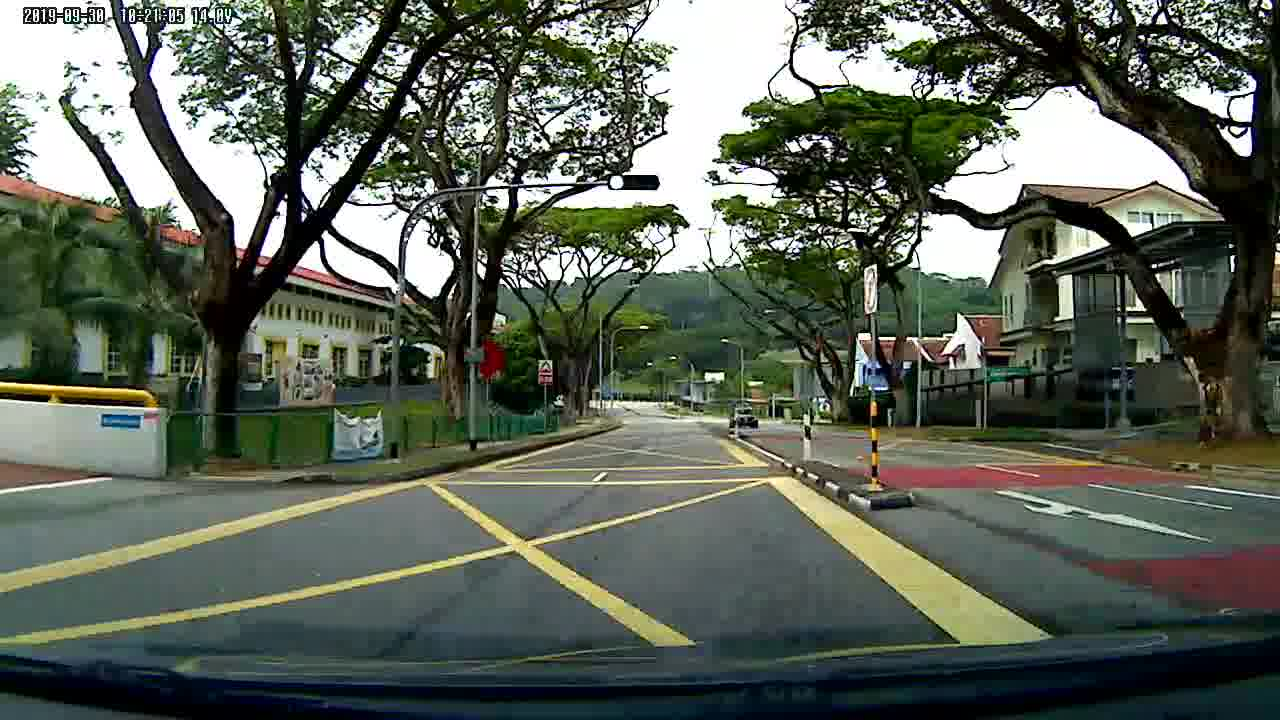car: (726, 403, 761, 430)
